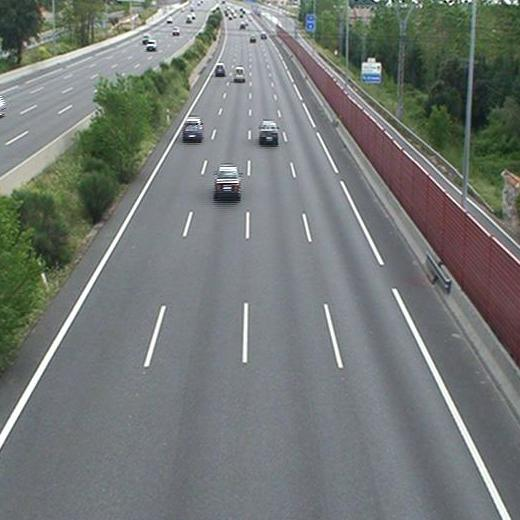car: (215, 167, 239, 192), (183, 118, 202, 138), (260, 121, 278, 140), (214, 63, 226, 75), (234, 68, 245, 81)
